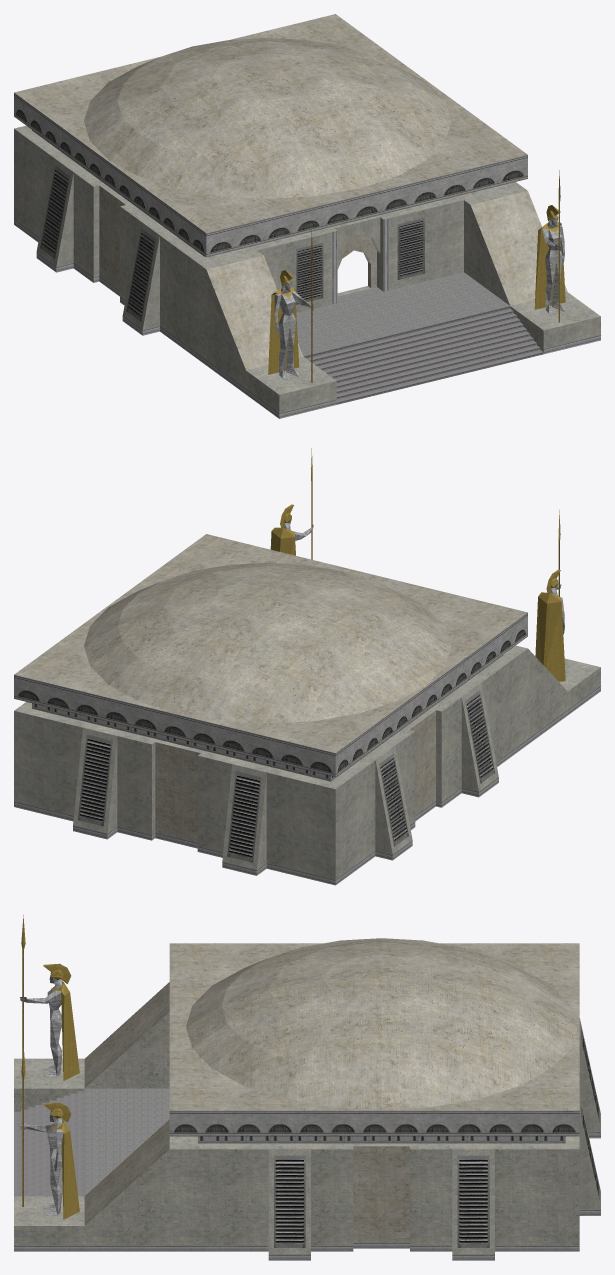
Rendered from mun_all_guild_combat_s01_r0_exterior_mesh_exterior_l1.fbx.
3 renders of one model, top to bottom at view 1: azimuth 30°, elevation 25°; view 2: azimuth 150°, elevation 25°; view 3: azimuth 270°, elevation 25°, orthographic. The views are drawn at different scales.
Parts seen in each view (by area): view 1: mesh_node; view 2: mesh_node; view 3: mesh_node.
Boxes of the visible parts, x1,y1,x2,y2 form: mesh_node: (14,14,600,418); mesh_node: (14,448,600,885); mesh_node: (14,914,600,1260).
Bounding box in the file's own units: 38.75 × 18.75 × 51.88.
